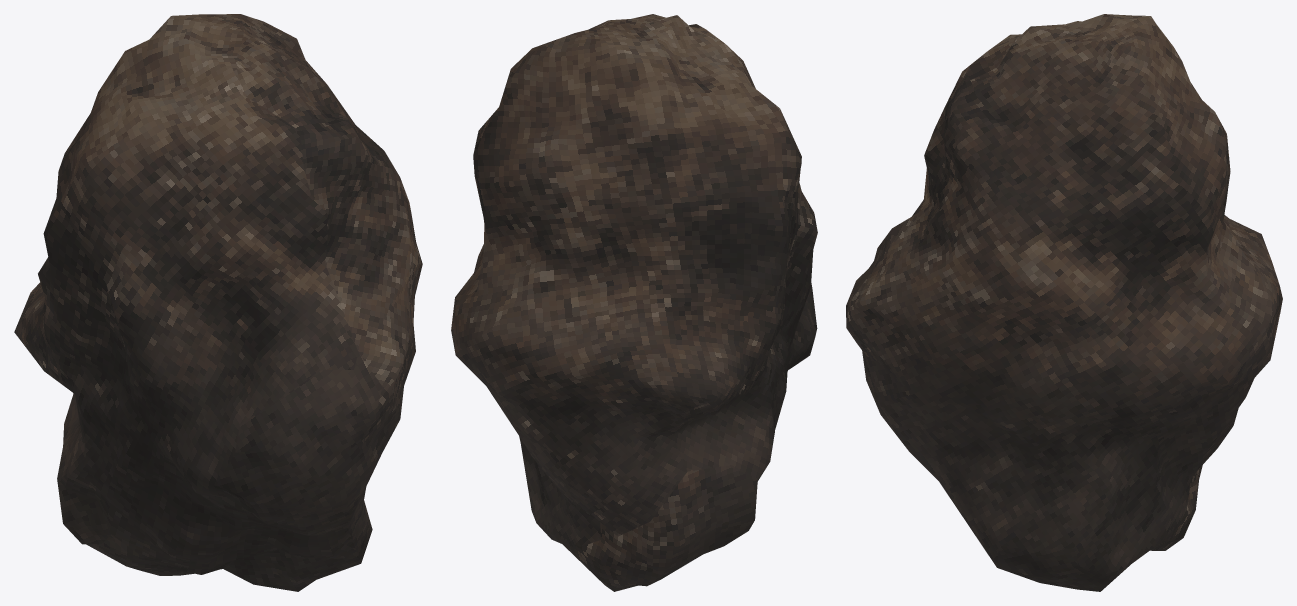
Rendered from SM_RP2_Rock_2m_5.001.glb.
3 views of the same model, side by side, from view 1: azimuth 30°, elevation 25°; view 2: azimuth 150°, elevation 25°; view 3: azimuth 270°, elevation 25° (orthographic). The views are drawn at different scales.
Parts seen in each view (by area): view 1: SM_RP2_Rock_2m_5.001; view 2: SM_RP2_Rock_2m_5.001; view 3: SM_RP2_Rock_2m_5.001.
Boxes of the visible parts, left/top/right/bottom form: SM_RP2_Rock_2m_5.001: left=14, top=14, right=422, bottom=591; SM_RP2_Rock_2m_5.001: left=451, top=14, right=817, bottom=591; SM_RP2_Rock_2m_5.001: left=846, top=14, right=1282, bottom=591.
Size of the model in its own units: 1.95 by 3.15 by 2.33.
1 material, 1 textured.
